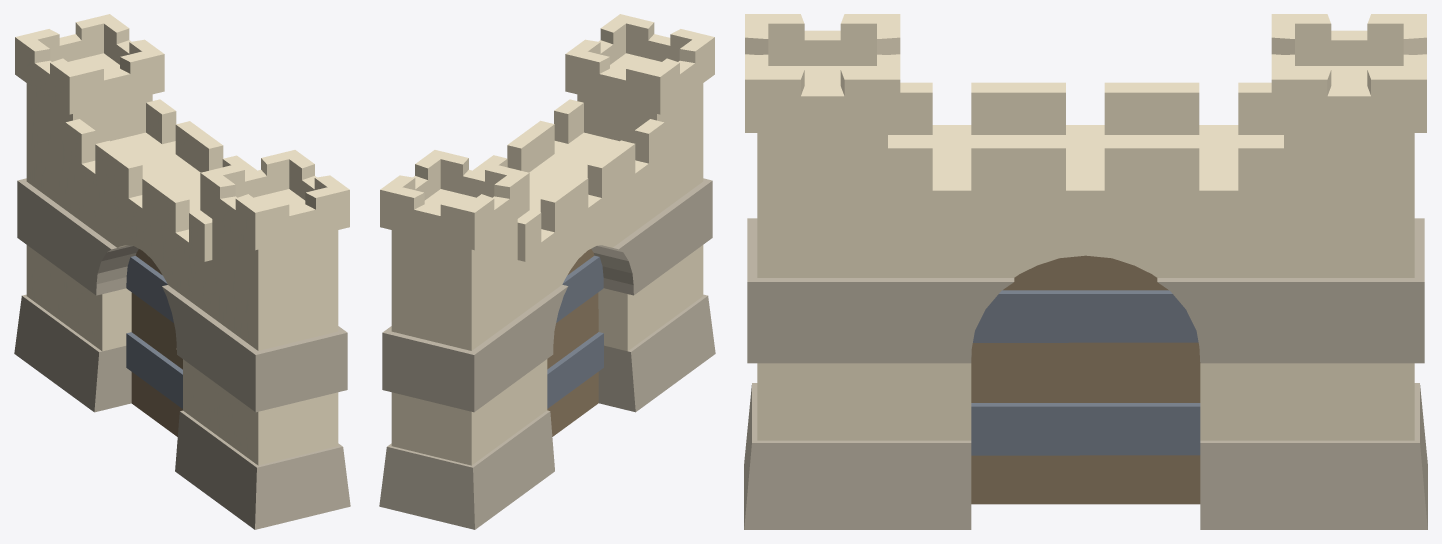
The model's file is Puerta_De_Muralla.fbx.
The picture shows the model from 3 angles, left to right: view 1: azimuth 30°, elevation 25°; view 2: azimuth 150°, elevation 25°; view 3: azimuth 270°, elevation 25°; orthographic projection. The views are drawn at different scales.
Visible parts, largest first — view 1: Puerta De Muralla; view 2: Puerta De Muralla; view 3: Puerta De Muralla.
Boxes of the visible parts, box(x1,y1,x2,y2) form: Puerta De Muralla: box(14, 14, 350, 529); Puerta De Muralla: box(379, 14, 715, 529); Puerta De Muralla: box(744, 14, 1427, 529).
Size of the model in its own units: 840 by 2657 by 3658.
